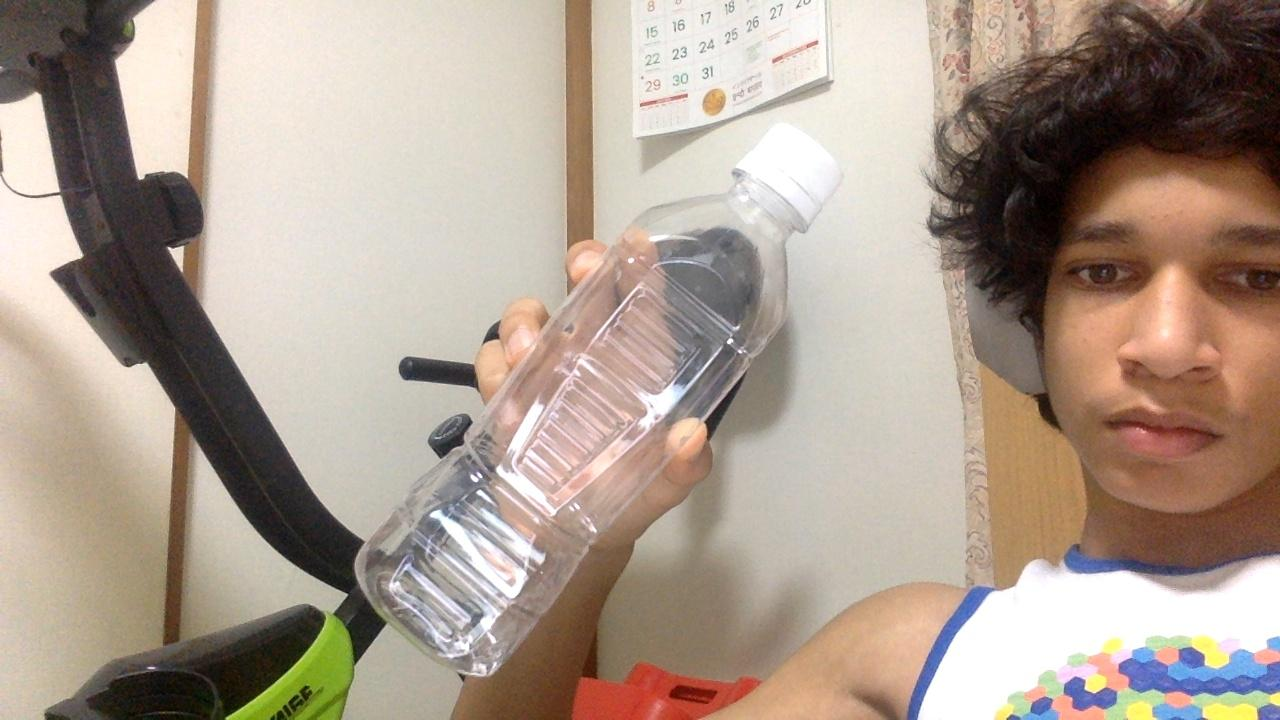Plastic: (356, 120, 843, 679)
